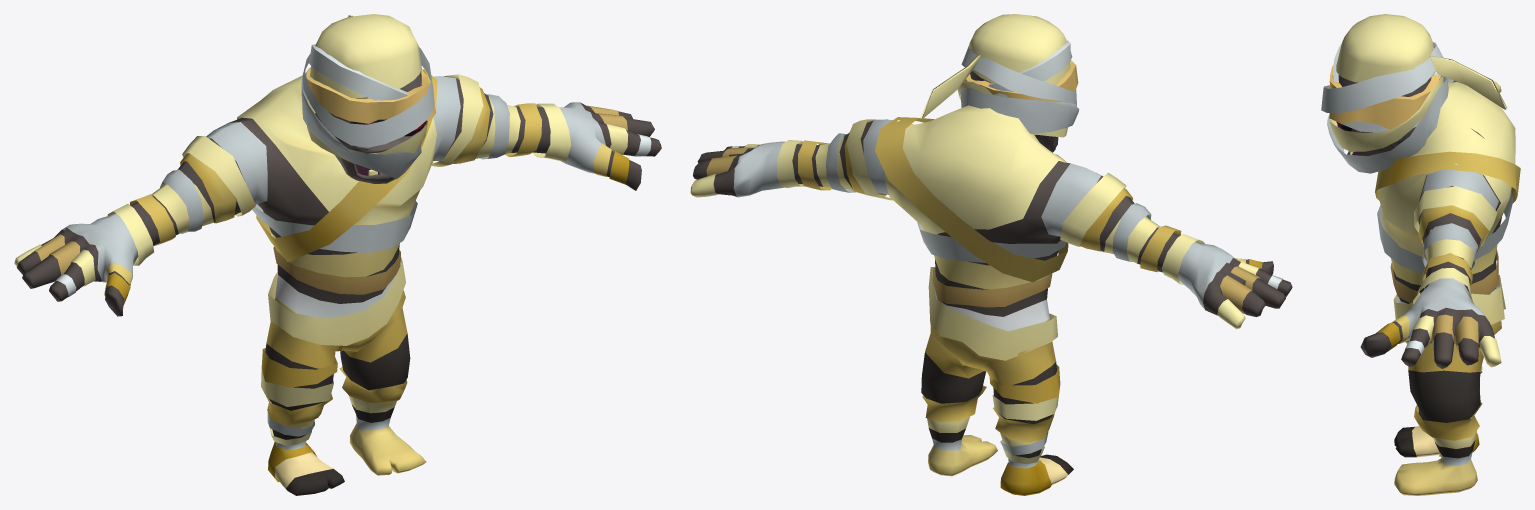
Rendered from Idle_Hero_Desertmap_Boss.fbx.
The picture shows the model from 3 angles, left to right: view 1: azimuth 30°, elevation 25°; view 2: azimuth 150°, elevation 25°; view 3: azimuth 270°, elevation 25°; orthographic projection. The views are drawn at different scales.
Parts seen in each view (by area): view 1: Idle_Hero_Desertmap_Boss; view 2: Idle_Hero_Desertmap_Boss; view 3: Idle_Hero_Desertmap_Boss.
Boxes of the visible parts, left/top/right/bottom form: Idle_Hero_Desertmap_Boss: left=14, top=14, right=661, bottom=495; Idle_Hero_Desertmap_Boss: left=690, top=14, right=1292, bottom=495; Idle_Hero_Desertmap_Boss: left=1321, top=14, right=1520, bottom=495.
Size of the model in its own units: 151 by 107 by 43.46.
